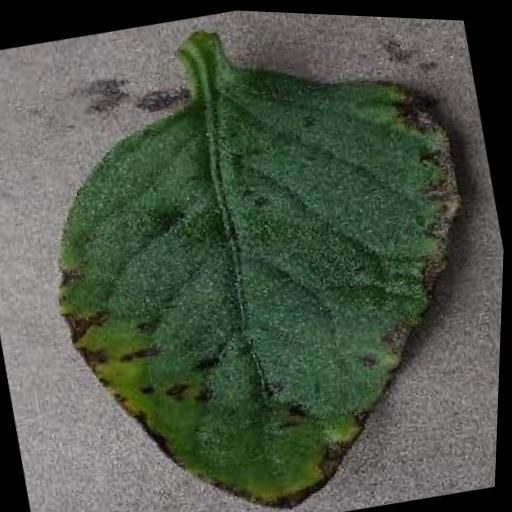Bacterial Spot: (13, 18, 512, 512)
